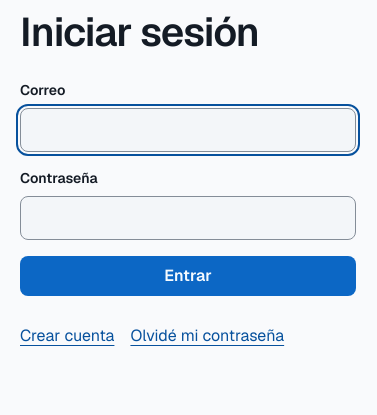
Test case: sign in › shows the refusal and keeps the email so a typo is one edit away
Type "ana@unmsm.edu.pe" into the field labelled "Correo" at x=188, y=130, box [20,108,356,152]
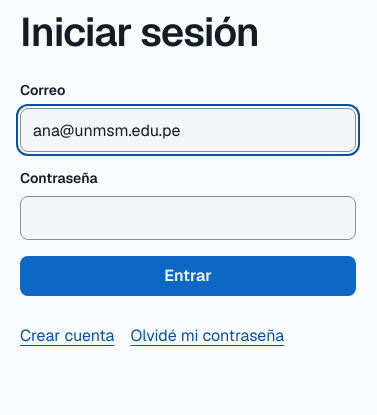
Type "incorrecta" into the password field labelled "Contraseña" at x=188, y=218, box [20,196,356,240]
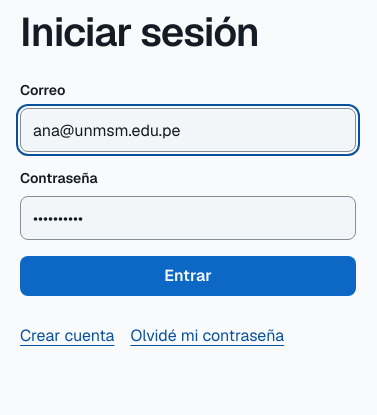
Submit the form, box [20,80,356,296]
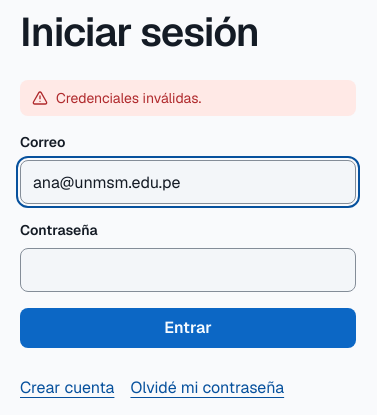
Check: the message reads "Credenciales inválidas.", box [56,89,201,107]
